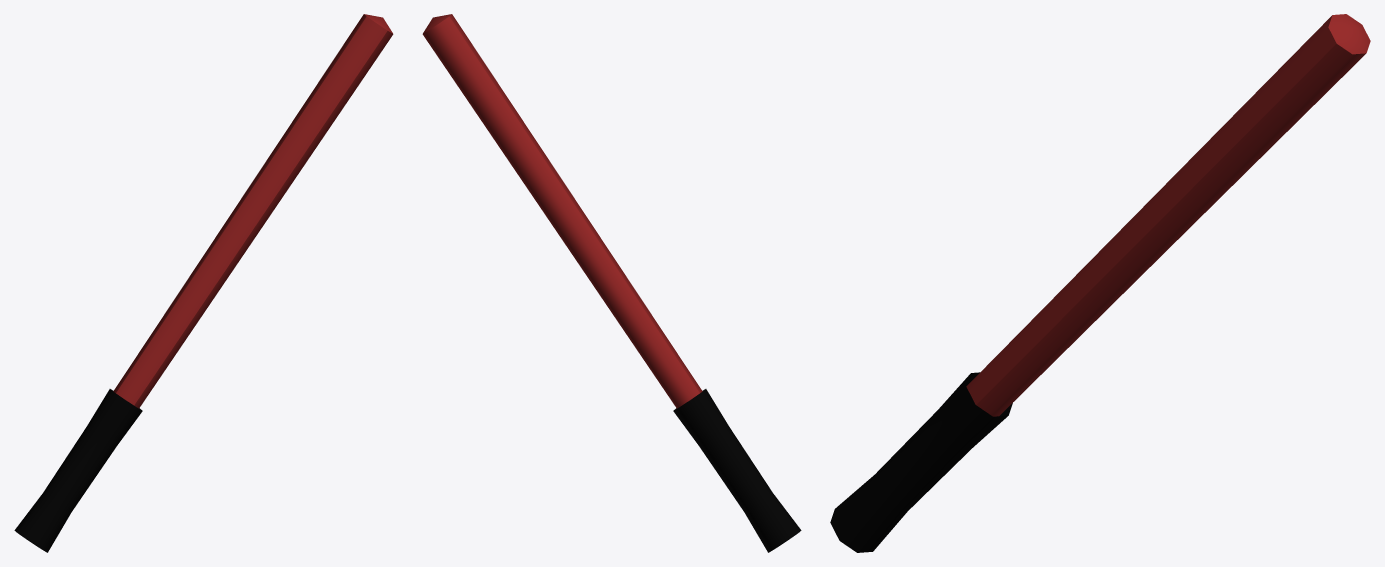
Rendered from Lightsaber.fbx.
The picture shows the model from 3 angles, left to right: view 1: azimuth 30°, elevation 25°; view 2: azimuth 150°, elevation 25°; view 3: azimuth 330°, elevation 25°; orthographic projection. The views are drawn at different scales.
Parts seen in each view (by area): view 1: Cylinder002; view 2: Cylinder002; view 3: Cylinder002.
Boxes of the visible parts, x1=… form: Cylinder002: x1=14, y1=14, x2=393, y2=552; Cylinder002: x1=422, y1=14, x2=801, y2=552; Cylinder002: x1=830, y1=14, x2=1370, y2=552.
Bounding box in the file's own units: 35.84 × 41.8 × 3.36.
Materials: 2 (2 with a texture image).
